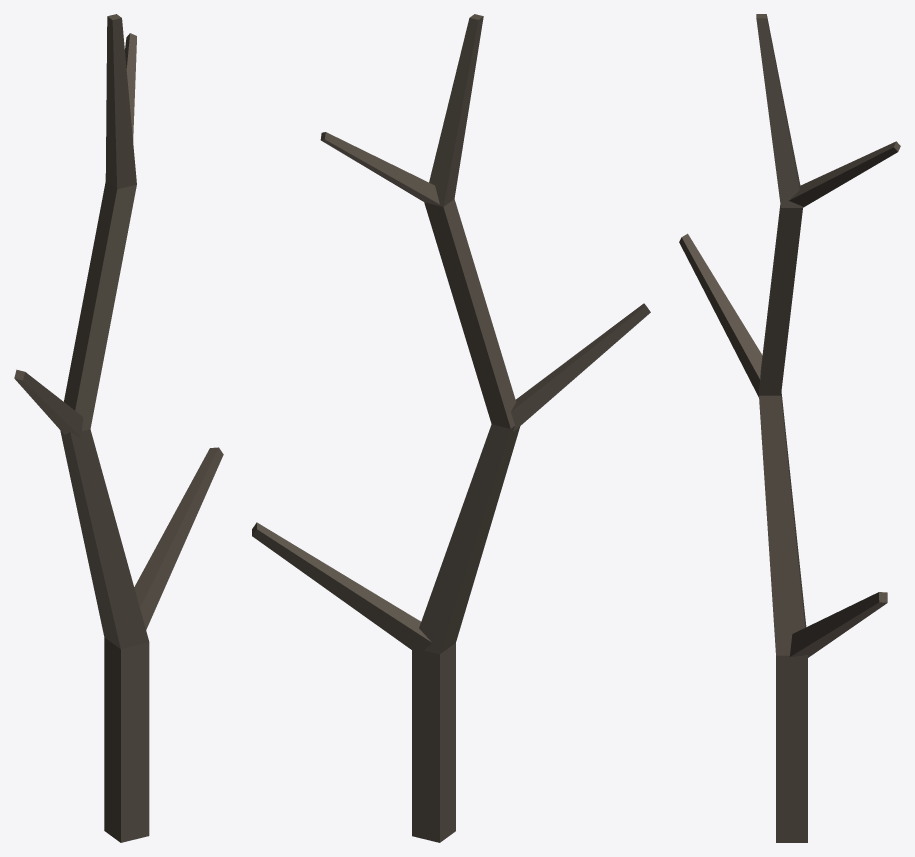
Rendered from SM_Prop_Stick_02.fbx.
3 views of the same model, side by side, from view 1: azimuth 30°, elevation 25°; view 2: azimuth 150°, elevation 25°; view 3: azimuth 270°, elevation 25° (orthographic). The views are drawn at different scales.
Visible parts, largest first — view 1: SM_Prop_Stick_02; view 2: SM_Prop_Stick_02; view 3: SM_Prop_Stick_02.
Boxes of the visible parts, x1,y1,x2,y2 form: SM_Prop_Stick_02: [14, 14, 223, 842]; SM_Prop_Stick_02: [252, 14, 650, 842]; SM_Prop_Stick_02: [679, 14, 900, 842].
Size of the model in its own units: 58.78 by 151 by 37.71.
